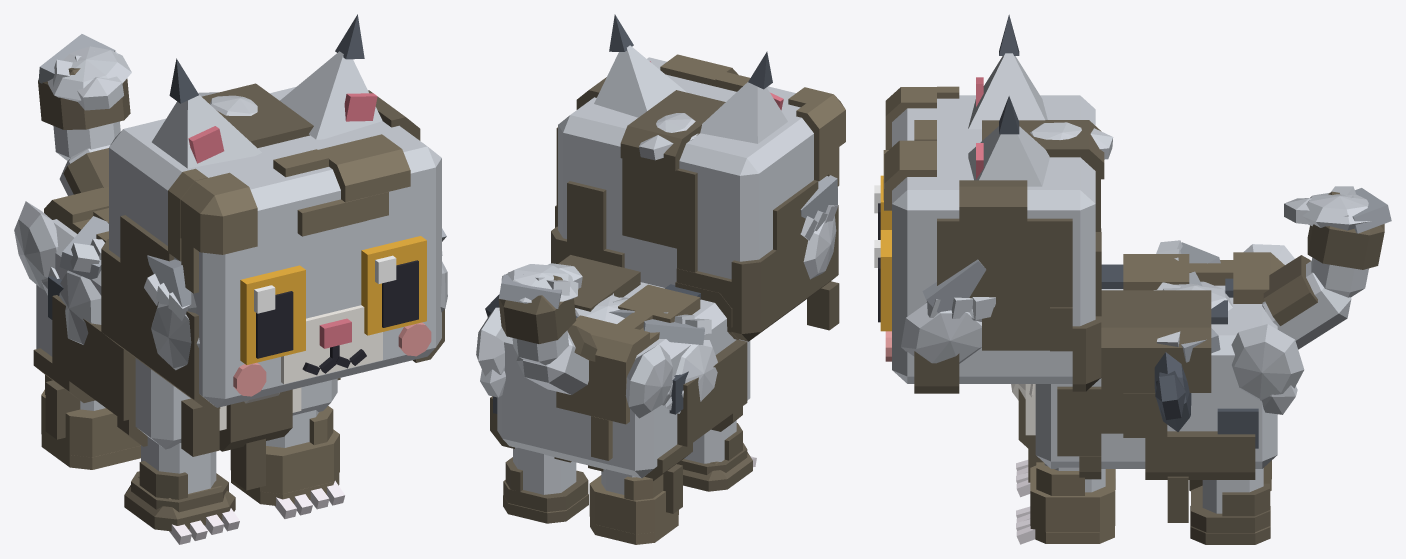
File: CleanACat_Cat_Marble_Dirty.fbx
The picture shows the model from 3 angles, left to right: view 1: azimuth 30°, elevation 25°; view 2: azimuth 150°, elevation 25°; view 3: azimuth 270°, elevation 25°; orthographic projection. The views are drawn at different scales.
Visible parts, largest first — view 1: CleanACat_Cat_Marble_Dirty_Head, CleanACat_Cat_Marble_Dirty_Mud01, CleanACat_Cat_Marble_Dirty_Mud03, CleanACat_Cat_Marble_Dirty_Mud06, CleanACat_Cat_Marble_Dirty_Body, CleanACat_Cat_Marble_Dirty_Mud10, CleanACat_Cat_Marble_Dirty_EarL, CleanACat_Cat_Marble_Dirty_Eye2, CleanACat_Cat_Marble_Dirty_Eye1, CleanACat_Cat_Marble_Dirty_EarR, CleanACat_Cat_Marble_Dirty_Mud15, CleanACat_Cat_Marble_Dirty_Mud16 (+19 smaller); view 2: CleanACat_Cat_Marble_Dirty_Head, CleanACat_Cat_Marble_Dirty_Body, CleanACat_Cat_Marble_Dirty_Mud01, CleanACat_Cat_Marble_Dirty_Mud04, CleanACat_Cat_Marble_Dirty_Mud09, CleanACat_Cat_Marble_Dirty_Mud10, CleanACat_Cat_Marble_Dirty_Mud18, CleanACat_Cat_Marble_Dirty_EarL, CleanACat_Cat_Marble_Dirty_EarR, CleanACat_Cat_Marble_Dirty_Mud05, CleanACat_Cat_Marble_Dirty_Tail, CleanACat_Cat_Marble_Dirty_Mud06 (+22 smaller); view 3: CleanACat_Cat_Marble_Dirty_Head, CleanACat_Cat_Marble_Dirty_Mud02, CleanACat_Cat_Marble_Dirty_Mud08, CleanACat_Cat_Marble_Dirty_Body, CleanACat_Cat_Marble_Dirty_Mud11, CleanACat_Cat_Marble_Dirty_Mud15, CleanACat_Cat_Marble_Dirty_Fluff09, CleanACat_Cat_Marble_Dirty_EarL, CleanACat_Cat_Marble_Dirty_Mud17, CleanACat_Cat_Marble_Dirty_Tail, CleanACat_Cat_Marble_Dirty_EarR, CleanACat_Cat_Marble_Dirty_Mud13 (+21 smaller).
Boxes of the visible parts, box(x1,y1,x2,y2) form: CleanACat_Cat_Marble_Dirty_Head: box(109, 86, 441, 407); CleanACat_Cat_Marble_Dirty_Mud01: box(101, 215, 220, 456); CleanACat_Cat_Marble_Dirty_Mud03: box(273, 134, 410, 236); CleanACat_Cat_Marble_Dirty_Mud06: box(168, 168, 257, 293); CleanACat_Cat_Marble_Dirty_Body: box(36, 219, 337, 449); CleanACat_Cat_Marble_Dirty_Mud10: box(52, 295, 147, 446); CleanACat_Cat_Marble_Dirty_EarL: box(280, 14, 382, 139); CleanACat_Cat_Marble_Dirty_Eye2: box(240, 265, 305, 364); CleanACat_Cat_Marble_Dirty_Eye1: box(361, 236, 426, 335); CleanACat_Cat_Marble_Dirty_EarR: box(152, 58, 261, 168); CleanACat_Cat_Marble_Dirty_Mud15: box(230, 406, 339, 505); CleanACat_Cat_Marble_Dirty_Mud16: box(124, 461, 235, 531); CleanACat_Cat_Marble_Dirty_Head: box(558, 57, 837, 287); CleanACat_Cat_Marble_Dirty_Body: box(493, 282, 750, 478); CleanACat_Cat_Marble_Dirty_Mud01: box(676, 180, 839, 341); CleanACat_Cat_Marble_Dirty_Mud04: box(620, 90, 725, 272); CleanACat_Cat_Marble_Dirty_Mud09: box(556, 311, 652, 460); CleanACat_Cat_Marble_Dirty_Mud10: box(675, 281, 747, 446); CleanACat_Cat_Marble_Dirty_Mud18: box(589, 474, 678, 544); CleanACat_Cat_Marble_Dirty_EarL: box(594, 14, 686, 117); CleanACat_Cat_Marble_Dirty_EarR: box(700, 51, 787, 143); CleanACat_Cat_Marble_Dirty_Mud05: box(551, 181, 624, 267); CleanACat_Cat_Marble_Dirty_Tail: box(512, 330, 588, 394); CleanACat_Cat_Marble_Dirty_Mud06: box(788, 87, 845, 186); CleanACat_Cat_Marble_Dirty_Head: box(885, 95, 1095, 383); CleanACat_Cat_Marble_Dirty_Mud02: box(914, 180, 1072, 393); CleanACat_Cat_Marble_Dirty_Mud08: box(1101, 290, 1211, 437); CleanACat_Cat_Marble_Dirty_Body: box(1025, 264, 1277, 468); CleanACat_Cat_Marble_Dirty_Mud11: box(1145, 431, 1255, 522); CleanACat_Cat_Marble_Dirty_Mud15: box(1030, 462, 1115, 543); CleanACat_Cat_Marble_Dirty_Fluff09: box(1231, 324, 1304, 414); CleanACat_Cat_Marble_Dirty_EarL: box(968, 96, 1049, 186); CleanACat_Cat_Marble_Dirty_Mud17: box(1190, 483, 1270, 544); CleanACat_Cat_Marble_Dirty_Tail: box(1262, 257, 1368, 349); CleanACat_Cat_Marble_Dirty_EarR: box(968, 14, 1047, 129); CleanACat_Cat_Marble_Dirty_Mud13: box(1057, 386, 1101, 479).
Size of the model in its own units: 1.2 by 1.97 by 2.03.
Materials: 1 (1 with a texture image).
